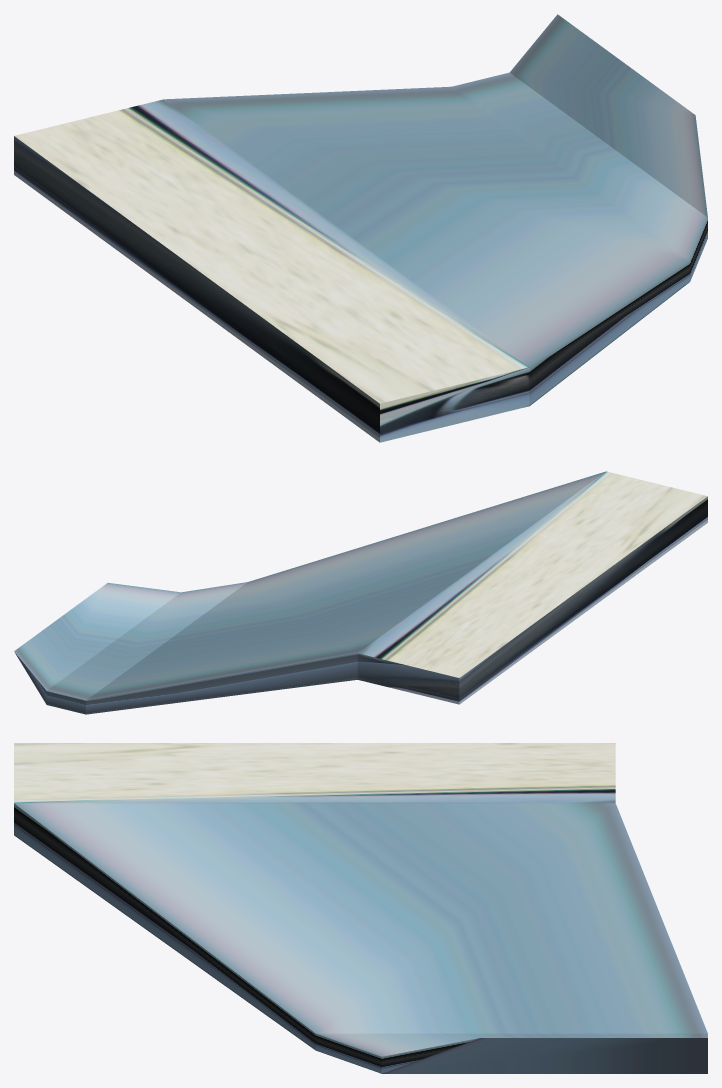
3 views of the same model, one above another, from view 1: azimuth 30°, elevation 25°; view 2: azimuth 150°, elevation 25°; view 3: azimuth 270°, elevation 25° (orthographic). The views are drawn at different scales.
Parts seen in each view (by area): view 1: Wing-2.002_Cube.030; view 2: Wing-2.002_Cube.030; view 3: Wing-2.002_Cube.030.
Boxes of the visible parts, x1,y1,x2,y2 form: Wing-2.002_Cube.030: [14, 14, 707, 442]; Wing-2.002_Cube.030: [14, 471, 707, 714]; Wing-2.002_Cube.030: [14, 743, 707, 1073].
Size of the model in its own units: 6.06 by 1.28 by 7.38.
